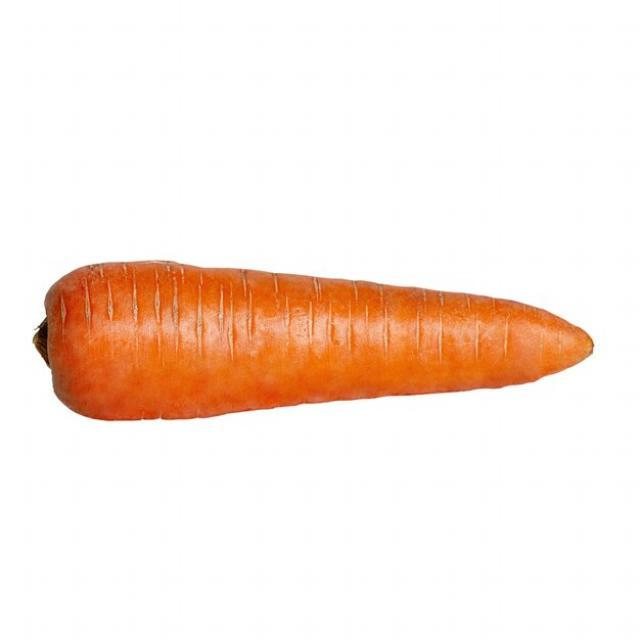Carrot: (36, 261, 606, 421)
